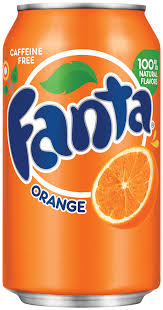can: (1, 3, 162, 306)
